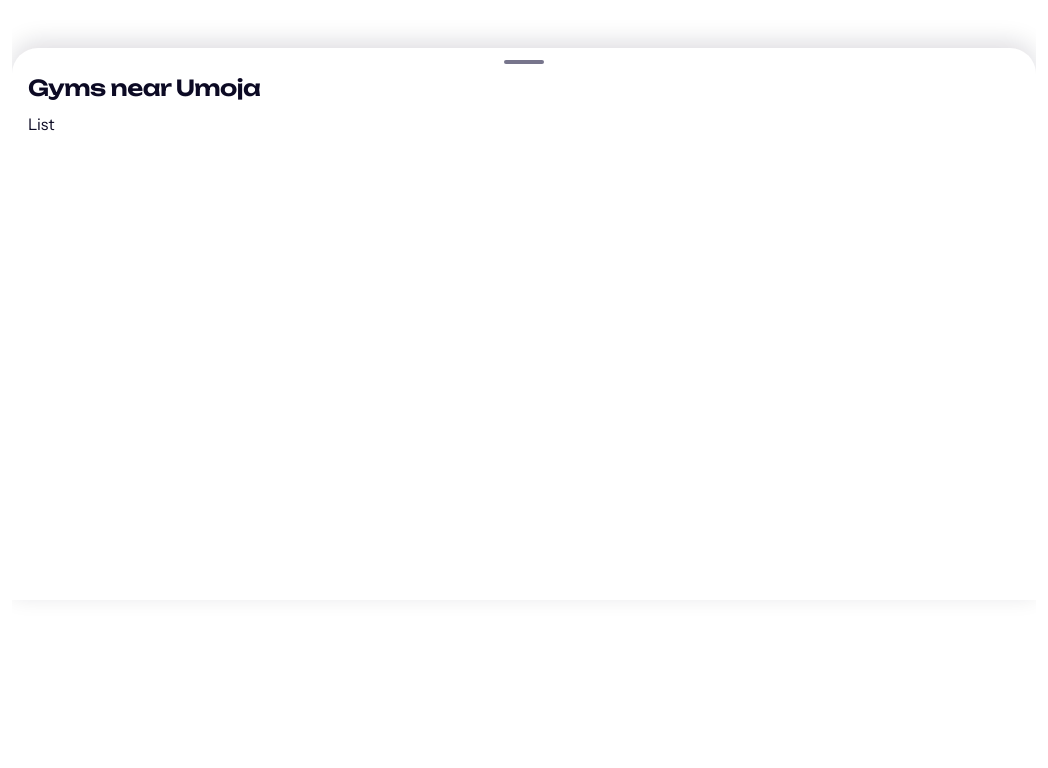
Test: cycles stops when the handle is pressed
Click the button named "Resize Gyms near Umoja panel, fully open" at (524, 62), box x1=12 y1=48 x2=1036 y2=76
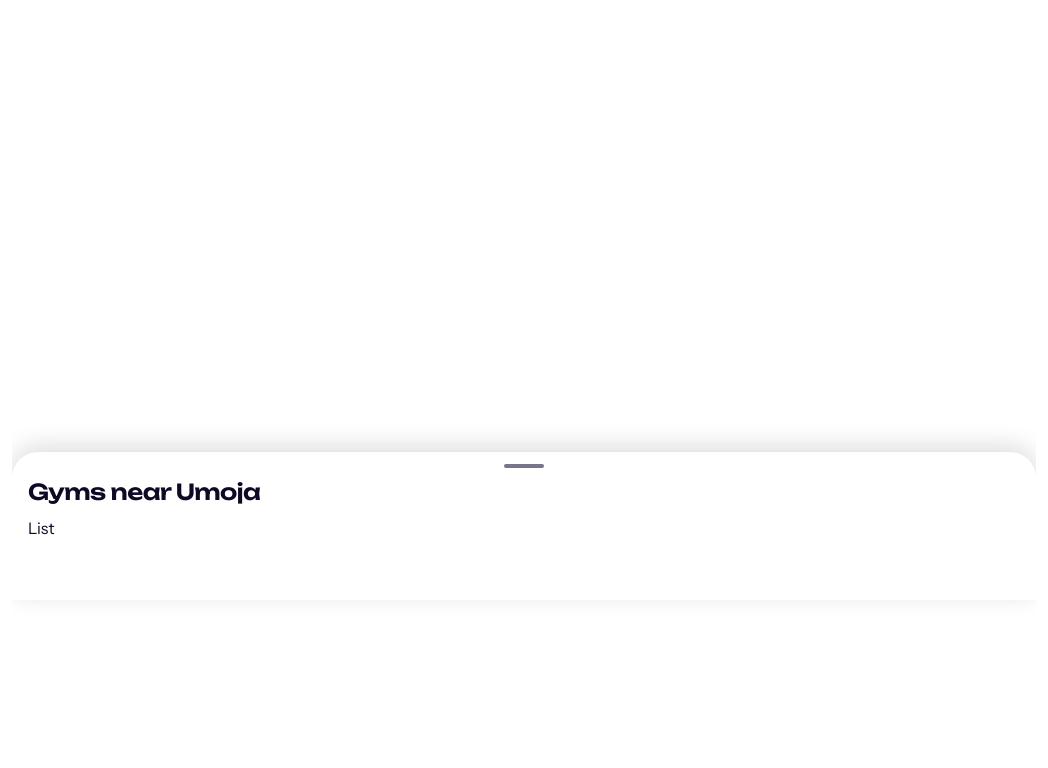
Now the element showing "Gyms near Umoja List" has attribute data-stop="peek", box x1=12 y1=452 x2=1036 y2=600
